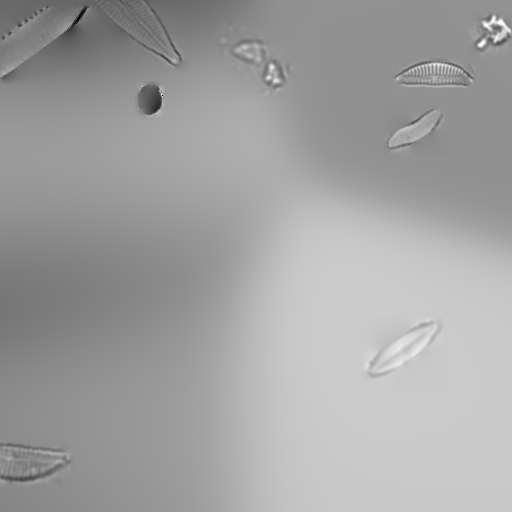ENMI: (0, 432, 75, 492), (390, 56, 478, 92)
KCLE: (377, 99, 453, 163)
NGER: (55, 0, 221, 77)
NPAE: (0, 0, 109, 97)
NRCH: (352, 308, 452, 392)
